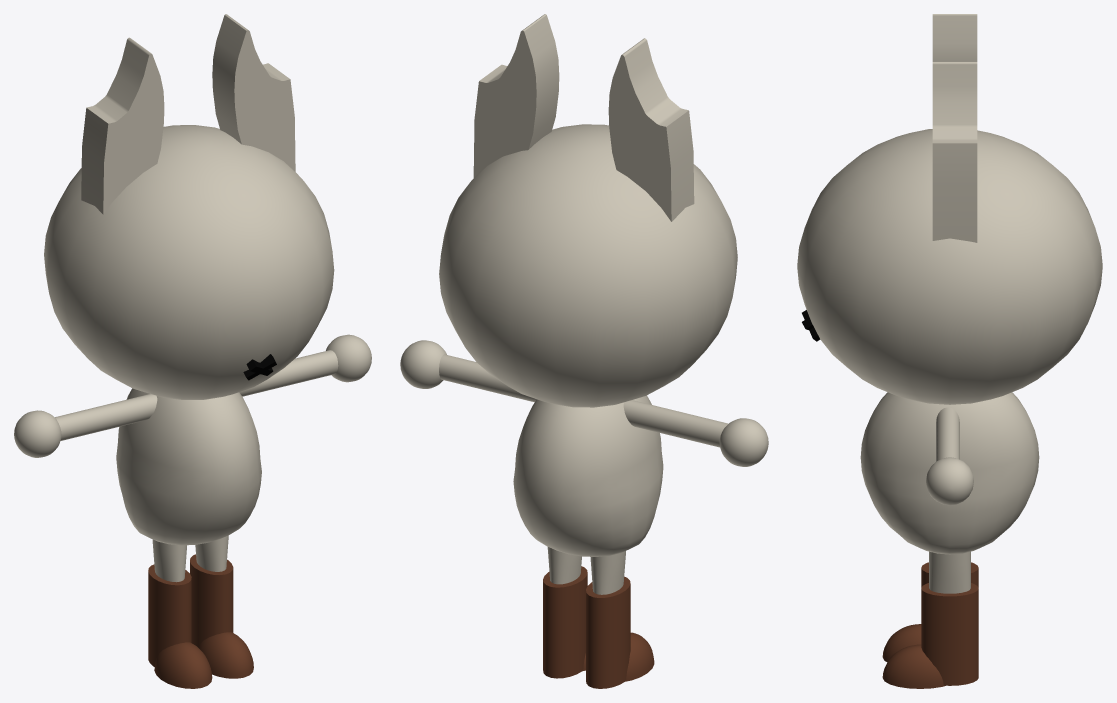
The model's file is conejo enemigo.fbx.
3 views of the same model, side by side, from view 1: azimuth 30°, elevation 25°; view 2: azimuth 150°, elevation 25°; view 3: azimuth 270°, elevation 25° (orthographic). The views are drawn at different scales.
Visible parts, largest first — view 1: conejo_temp; view 2: conejo_temp; view 3: conejo_temp.
Part boxes in pixels (left/top/right/bottom): conejo_temp: left=14, top=14, right=371, bottom=688; conejo_temp: left=400, top=14, right=768, bottom=688; conejo_temp: left=797, top=14, right=1102, bottom=688.
Bounding box in the file's own units: 4.6 × 7.79 × 3.42.
